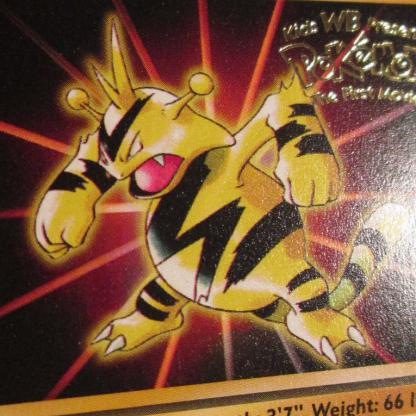Electabuzz: (1, 11, 416, 416)
